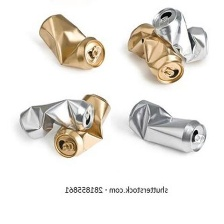can: (127, 98, 211, 156), (37, 11, 109, 72), (52, 90, 115, 159), (124, 20, 186, 87), (152, 7, 214, 64), (16, 99, 94, 140)
